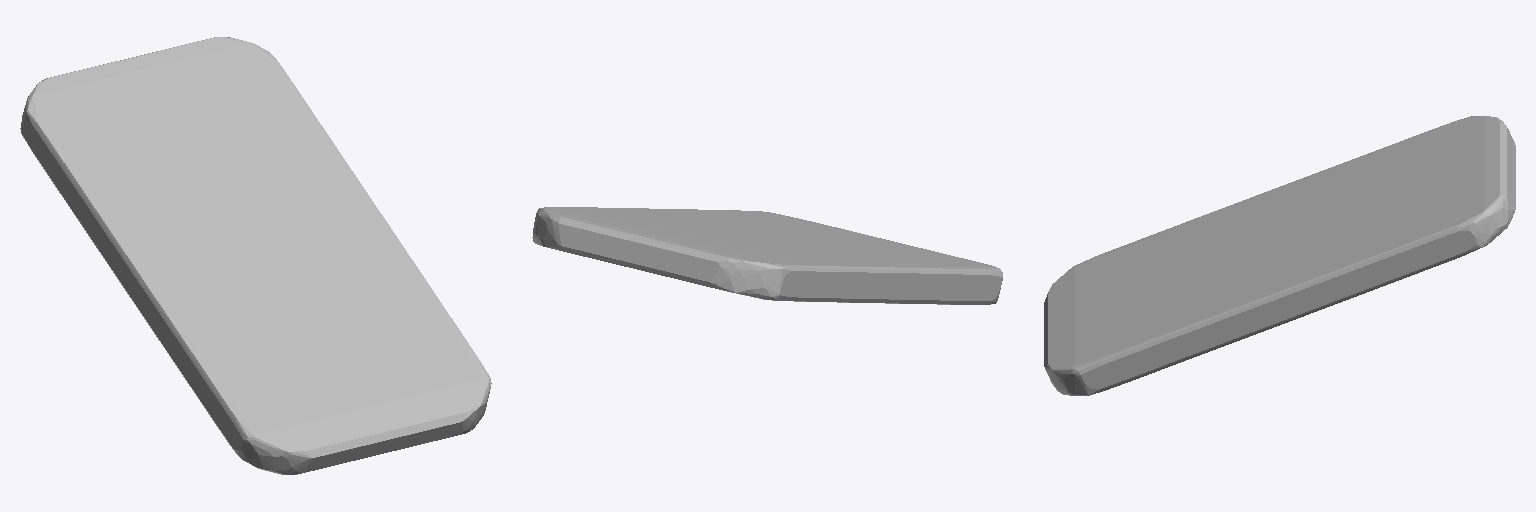
robot.urdf — root:
<robot name="root">
  <link name="link_coacd_convex_piece_0">
    <inertial>
      <origin xyz="0 0 0" rpy="0 0 0"/>
      <inertia ixx="4.29E-02" ixy="4.57E-07" ixz="4.82E-07" iyy="1.79E-02" iyz="-1.50E-02" izz="4.79E-02"/>
    </inertial>
    <visual>
      <origin xyz="0 0 0" rpy="0 0 0"/>
      <geometry>
        <mesh filename="coacd_convex_piece_0.obj" scale="1.0000E+00 1.0000E+00 1.0000E+00"/>
      </geometry>
      <material name="">
        <color rgba="7.50E-01 7.50E-01 7.50E-01 1"/>
      </material>
    </visual>
    <collision>
      <origin xyz="0 0 0" rpy="0 0 0"/>
      <geometry>
        <mesh filename="coacd_convex_piece_0.obj" scale="1.0000E+00 1.0000E+00 1.0000E+00"/>
      </geometry>
    </collision>
  </link>
</robot>

--- Facts derived from the render (not from the file) ---
3 views of the same robot in one strip: view 1: azimuth 30°, elevation 25°; view 2: azimuth 150°, elevation 25°; view 3: azimuth 270°, elevation 25° (orthographic).
Robot: root — 1 links, 0 joints (none); root link link_coacd_convex_piece_0; default pose: all joints at 0.
Links seen in each view (by area): view 1: link_coacd_convex_piece_0; view 2: link_coacd_convex_piece_0; view 3: link_coacd_convex_piece_0.
Link boxes in pixels (x1=…): link_coacd_convex_piece_0: x1=20, y1=37, x2=491, y2=474; link_coacd_convex_piece_0: x1=532, y1=207, x2=1002, y2=304; link_coacd_convex_piece_0: x1=1044, y1=116, x2=1515, y2=395.
Bounding box of the posed robot: 0.9587 × 1.76 × 0.8053 m (x, y, z).
1 mesh visuals loaded from 1 distinct referenced files (1 OBJ).